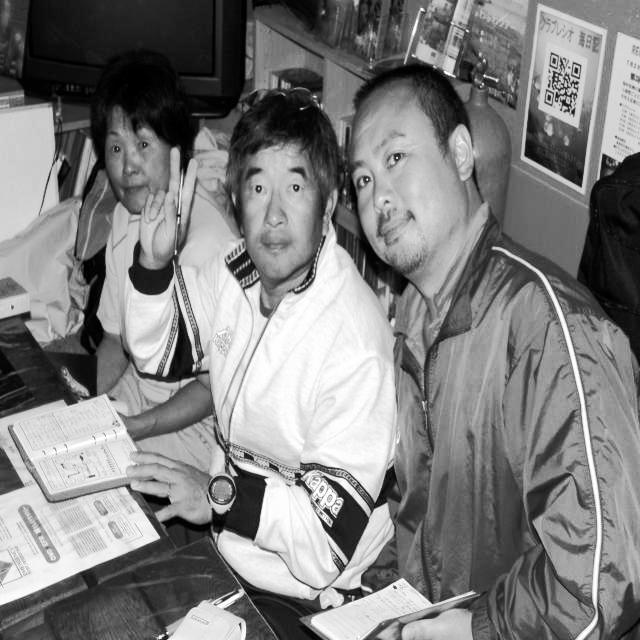qr_code: (544, 52, 581, 118)
